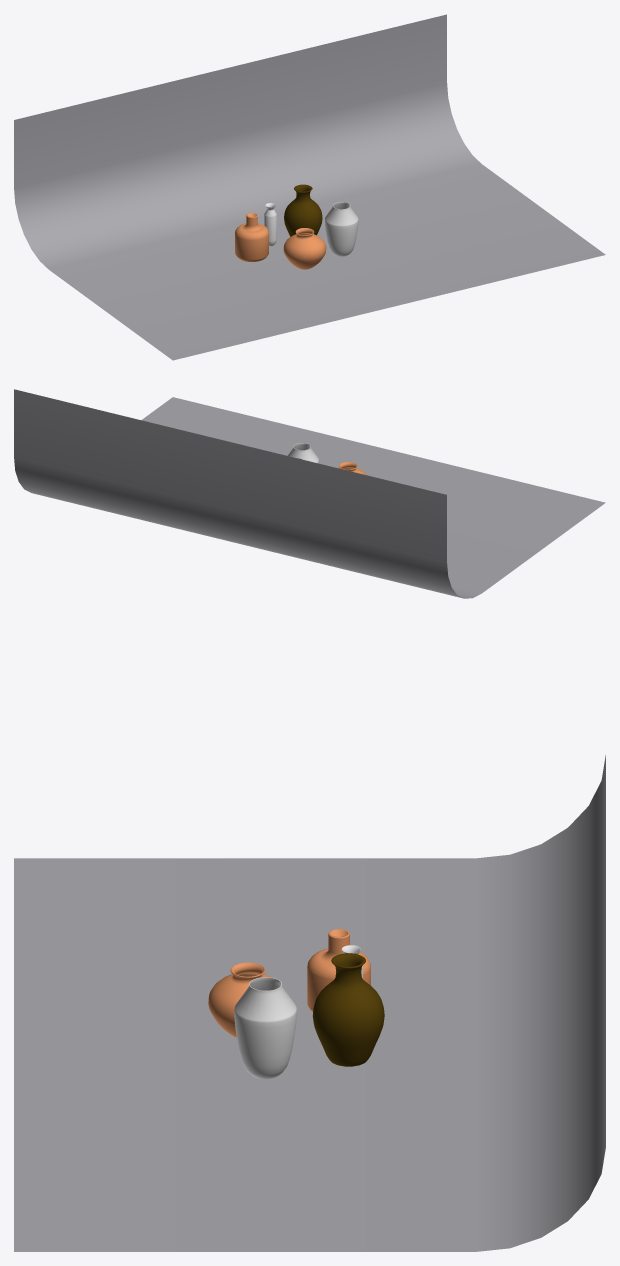
File: 3D models of various types of vases.fbx
The picture shows the model from 3 angles, top to bottom: view 1: azimuth 30°, elevation 25°; view 2: azimuth 150°, elevation 25°; view 3: azimuth 270°, elevation 25°; orthographic projection. The views are drawn at different scales.
Visible parts, largest first — view 1: Plane.032, white_vase, brown_vase_2, orange_vase, brown_vase; view 2: Plane.032, white_vase; view 3: Plane.032, brown_vase_2, white_vase, brown_vase, orange_vase.
Part boxes in pixels (bbox=[...]): Plane.032: bbox=[14, 14, 605, 360]; white_vase: bbox=[325, 202, 358, 256]; brown_vase_2: bbox=[284, 184, 322, 236]; orange_vase: bbox=[235, 213, 268, 261]; brown_vase: bbox=[283, 228, 326, 269]; Plane.032: bbox=[14, 389, 605, 598]; white_vase: bbox=[287, 443, 318, 463]; Plane.032: bbox=[14, 755, 605, 1251]; brown_vase_2: bbox=[312, 953, 384, 1066]; white_vase: bbox=[234, 977, 296, 1079]; brown_vase: bbox=[208, 962, 282, 1037]; orange_vase: bbox=[307, 929, 370, 1011].
Bounding box in the file's own units: 1907 × 535 × 1212.
